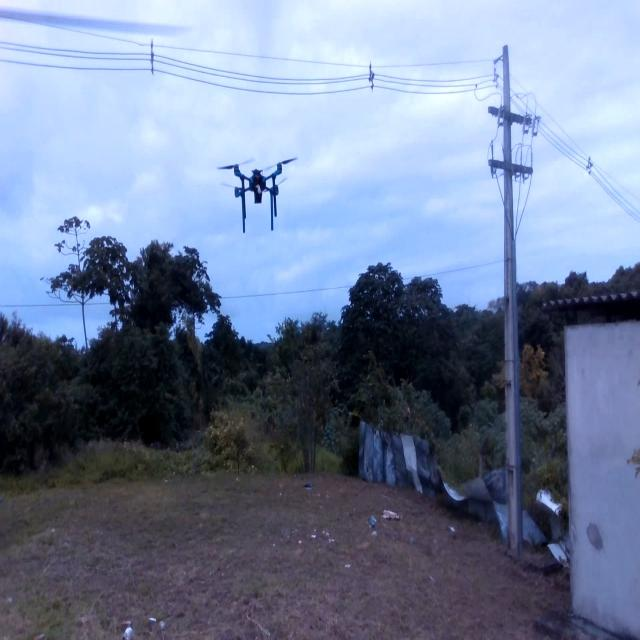-uav-: (204, 141, 304, 237)
